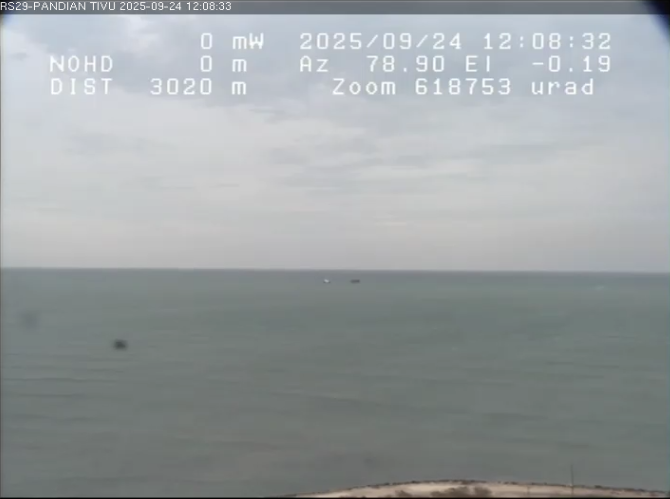BARGE: (342, 274, 366, 291)
OFFSHORE_SUPPLY_VESSEL: (315, 273, 333, 287)
TOWING: (275, 249, 420, 325)
